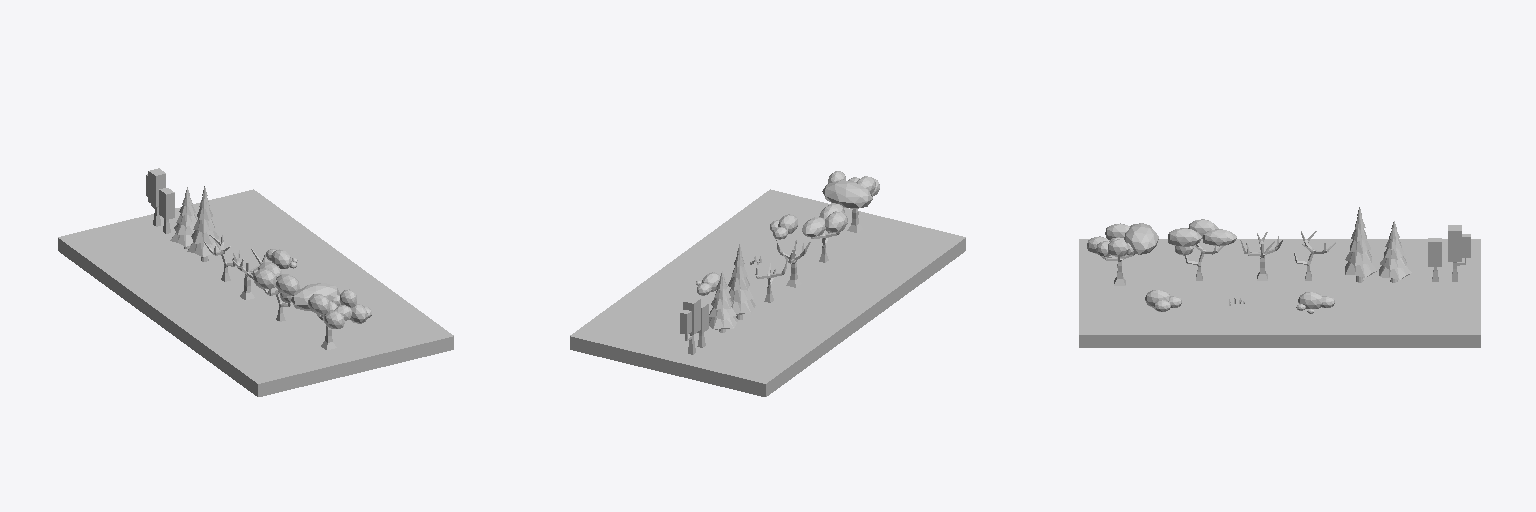
File: Tree Pack.obj
3 views of the same model, side by side, from view 1: azimuth 30°, elevation 25°; view 2: azimuth 150°, elevation 25°; view 3: azimuth 270°, elevation 25° (orthographic).
Visible parts, largest first — view 1: Plane.004_Plane.003, Cylinder.001, Cylinder.002, Icosphere.004; view 2: Plane.004_Plane.003, Cylinder.001, Icosphere.004, Cylinder.002; view 3: Plane.004_Plane.003, Cylinder.001, Cylinder.002, Icosphere.004.
Boxes of the visible parts, <box> form: Plane.004_Plane.003: <box>58,189,453,396</box>; Cylinder.001: <box>187,186,219,261</box>; Cylinder.002: <box>170,187,196,248</box>; Icosphere.004: <box>291,283,339,310</box>; Plane.004_Plane.003: <box>570,189,965,396</box>; Cylinder.001: <box>728,244,755,319</box>; Icosphere.004: <box>822,180,872,208</box>; Cylinder.002: <box>709,271,737,332</box>; Plane.004_Plane.003: <box>1079,239,1480,347</box>; Cylinder.001: <box>1345,207,1376,282</box>; Cylinder.002: <box>1379,221,1411,282</box>; Icosphere.004: <box>1124,223,1158,254</box>.
Bounding box in the file's own units: 46.78 × 20.13 × 82.75.